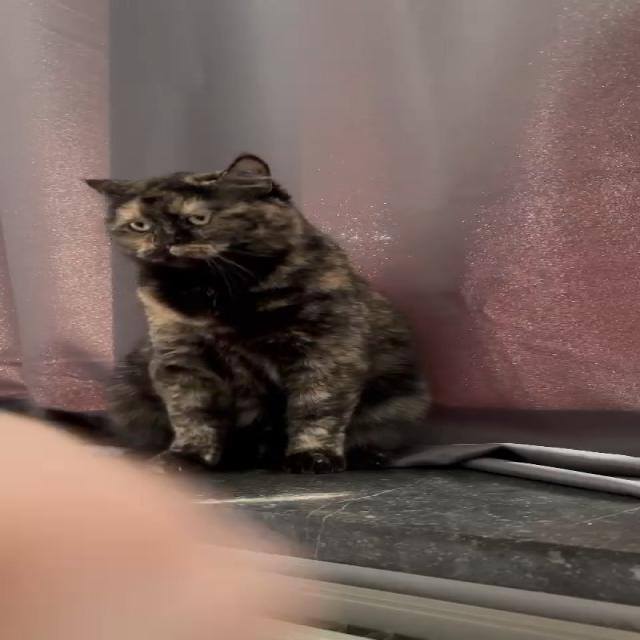authorized: (83, 152, 433, 475)
